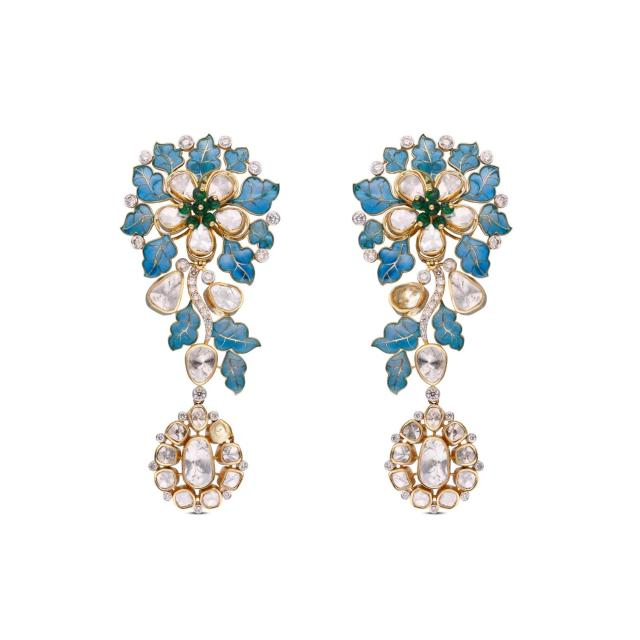missing gem: (392, 285, 421, 310), (210, 420, 231, 442)
